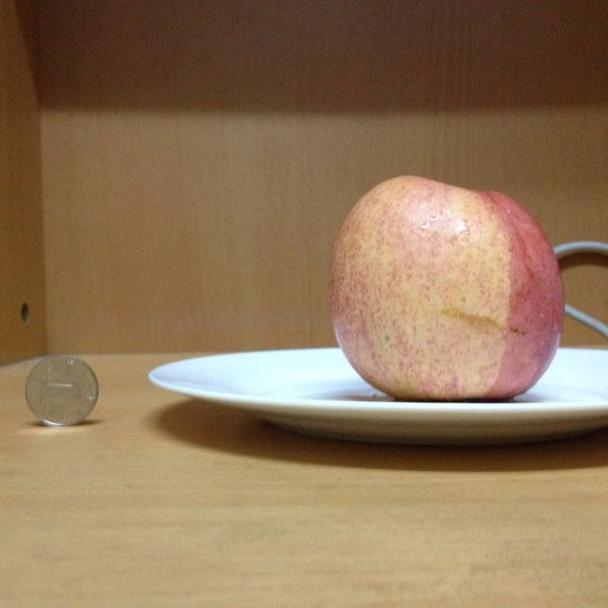apple: (328, 174, 566, 401)
